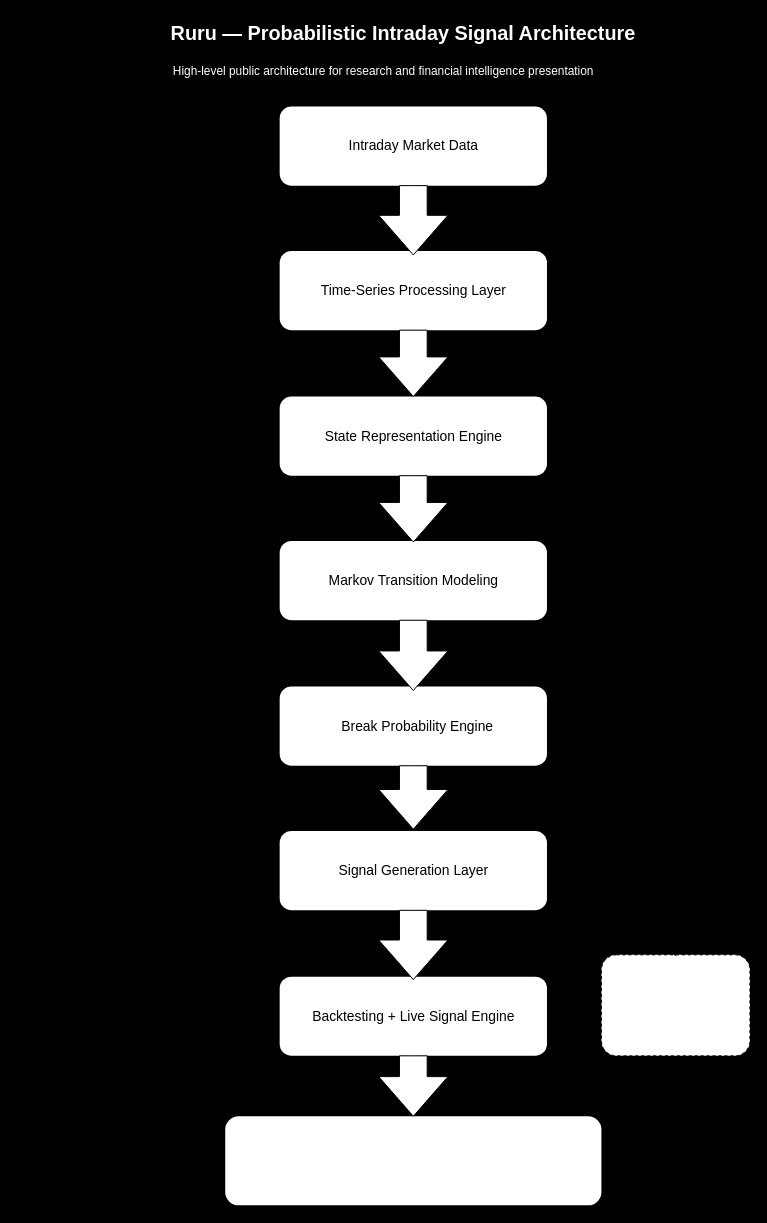
Some shapes in this 767 by 1223 pixel diagram are drawn without their labels. Here are the shapes that lost their labels. From the top down, the box of each, then its label:
(600, 954, 750, 1056): Future: Stateful Trade Management (Expert-2)
(224, 1115, 601, 1205): Research Dashboard / Financial Intelligence Interface
